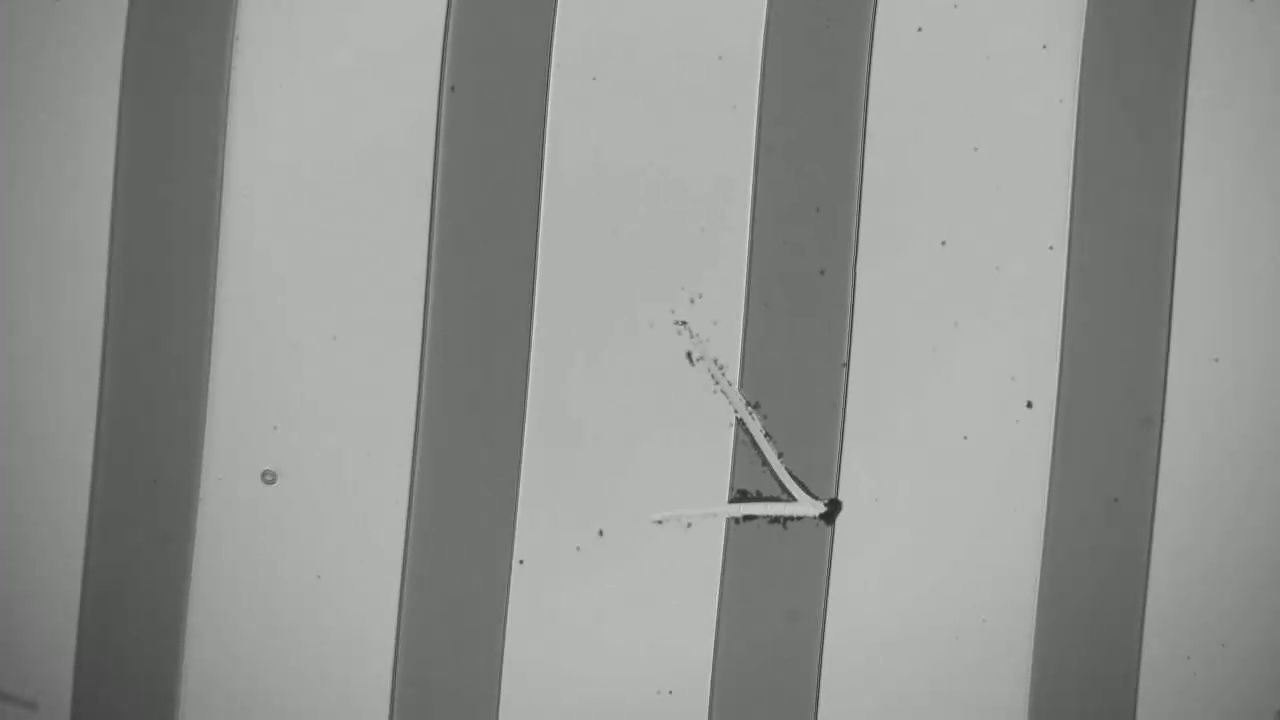Short_circuit: (698, 484, 865, 550)
